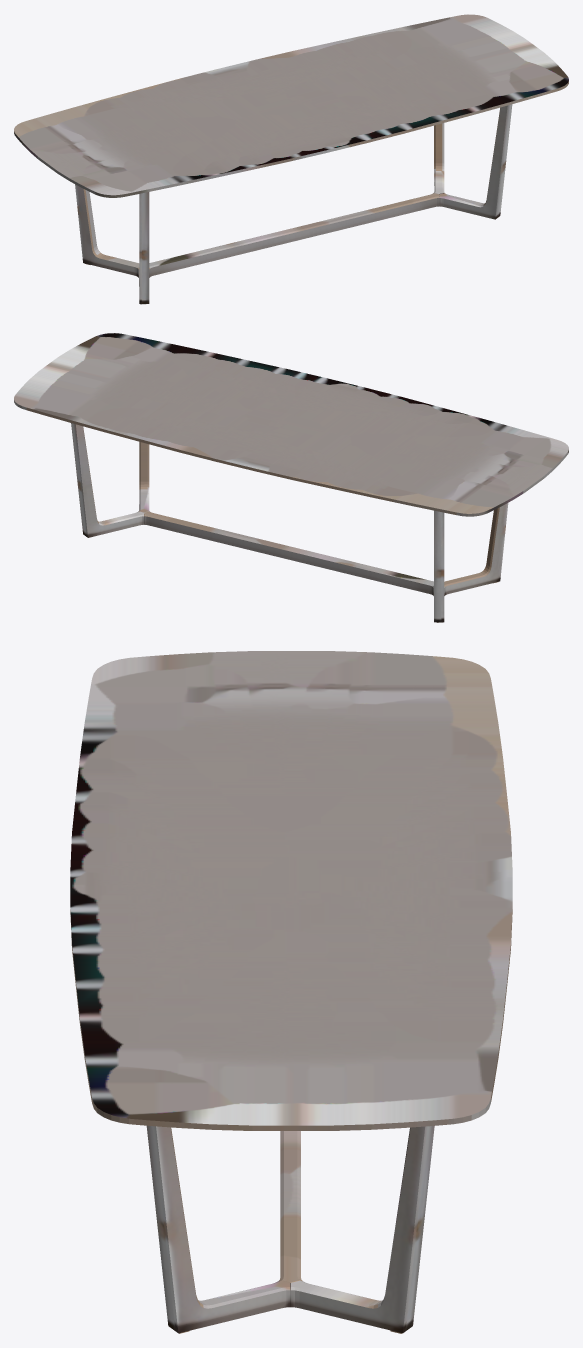
File: edited_mesh.glb
3 views of the same model, one above another, from view 1: azimuth 30°, elevation 25°; view 2: azimuth 150°, elevation 25°; view 3: azimuth 270°, elevation 25° (orthographic). The views are drawn at different scales.
Parts seen in each view (by area): view 1: normalized_model.obj; view 2: normalized_model.obj; view 3: normalized_model.obj.
Part boxes in pixels (left/top/right/bottom): normalized_model.obj: left=14, top=14, right=568, bottom=304; normalized_model.obj: left=14, top=333, right=568, bottom=622; normalized_model.obj: left=70, top=651, right=512, bottom=1333.
Bounding box in the file's own units: 2 × 0.5321 × 0.7873.
Materials: 1 (1 with a texture image).
